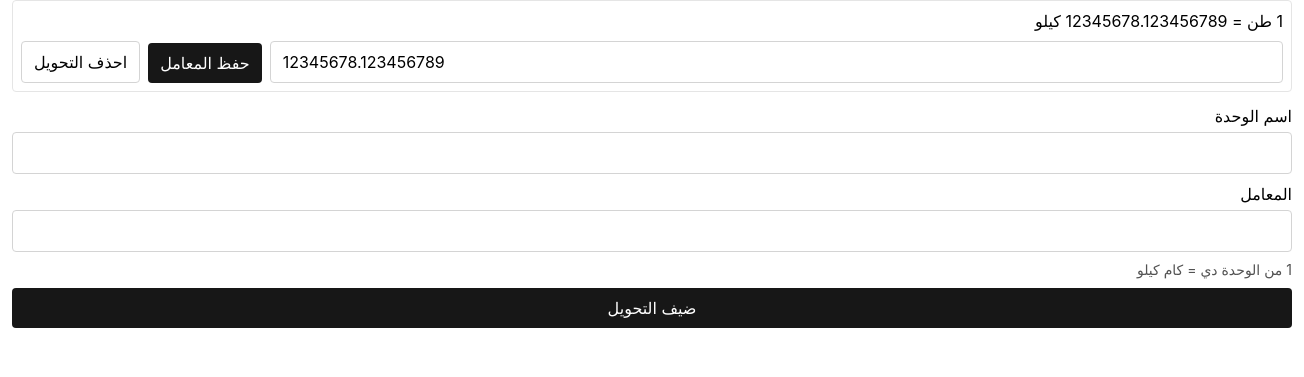
Test case: ConversionsPanel › re-initializes the factor input when only the exact stored text changes
Check: the text "1 طن = 12345678.123456789 كيلو" is shown, box [1035,11,1283,31]
What coordinates should you click on to do the following:
click the button "حفظ المعامل"
I would click on:
 (205, 63)
Its box is [148,43,262,83].
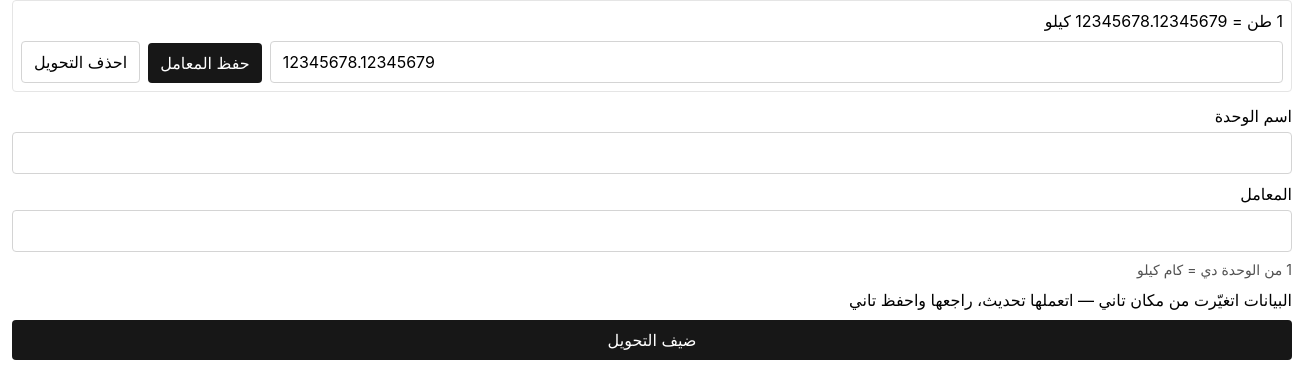
Check: the text "1 طن = 12345678.12345679 كيلو" is shown, box [1045,11,1283,31]
Check: the field named "معامل طن" holds "12345678.12345679", box [270,41,1283,83]
